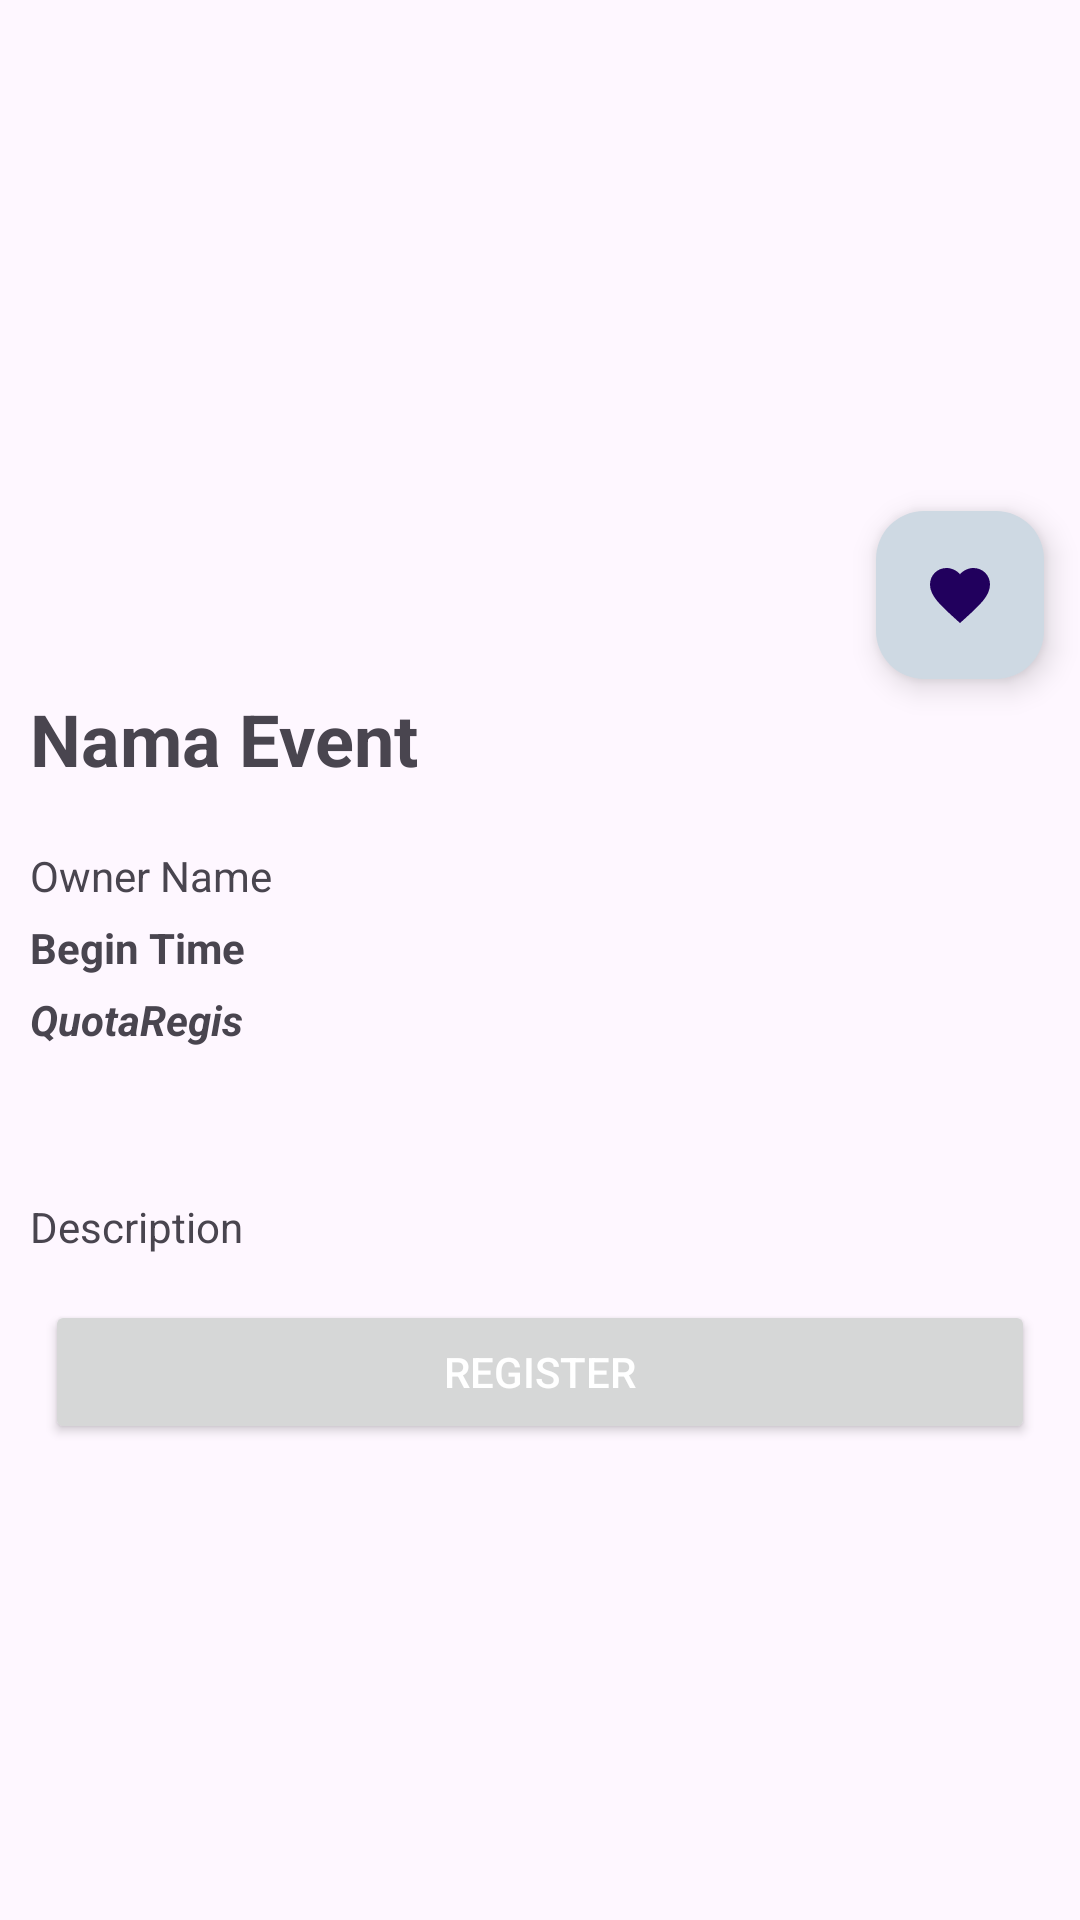

Icon click points for this 1080 × 1920 phone screenshot, format (x=x, y=y):
Add to Favorite: (x=960, y=595)
